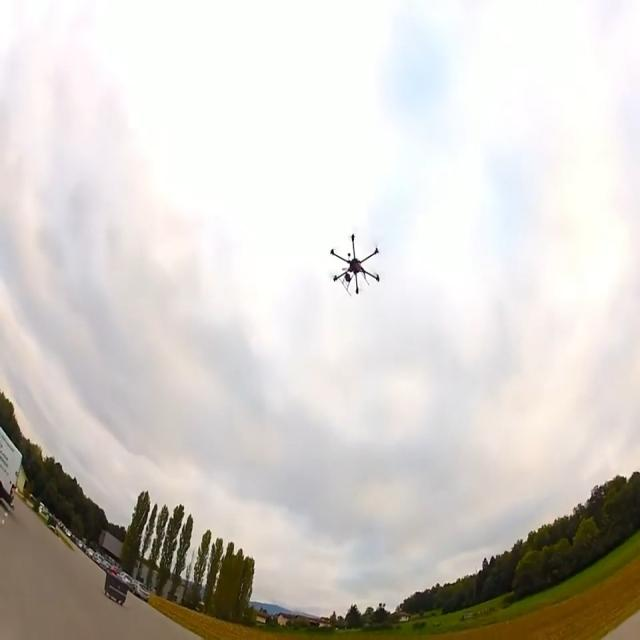drone: (329, 232, 380, 296)
